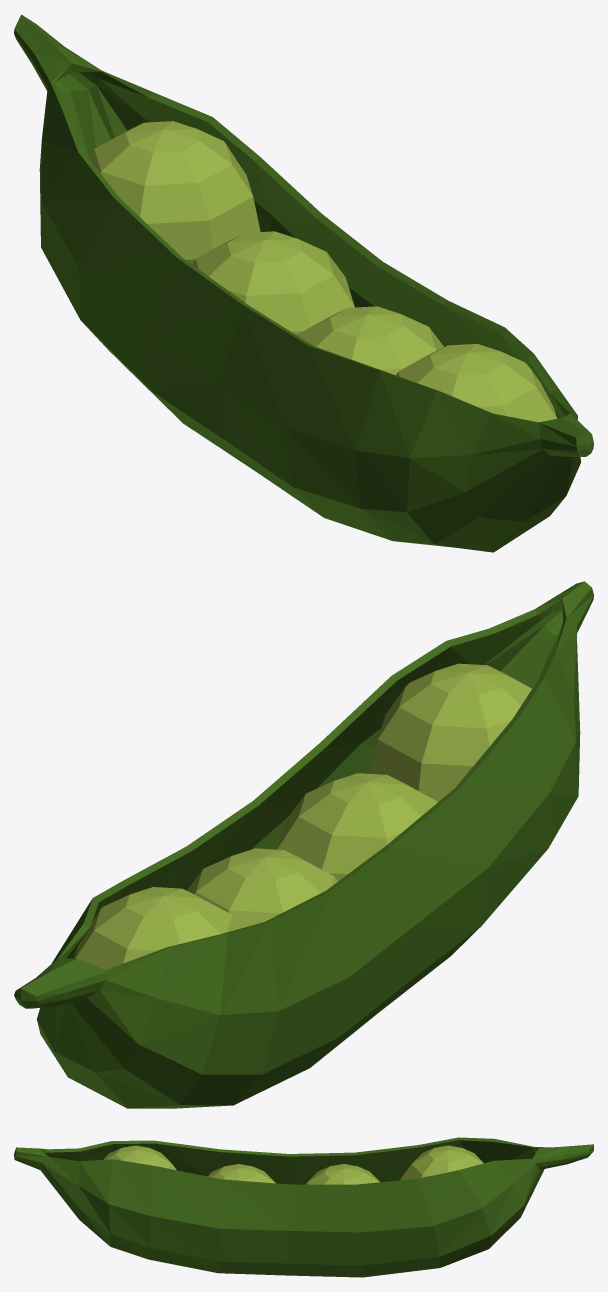
File: peapod.glb
3 renders of one model, top to bottom at view 1: azimuth 30°, elevation 25°; view 2: azimuth 150°, elevation 25°; view 3: azimuth 270°, elevation 25°, orthographic. The views are drawn at different scales.
Parts seen in each view (by area): view 1: Node; view 2: Node; view 3: Node.
Part boxes in pixels (x1,y1,x2,y2): Node: (14,14,593,552); Node: (14,581,593,1108); Node: (14,1137,593,1277).
Bounding box in the file's own units: 2.32 × 2.71 × 11.18.
